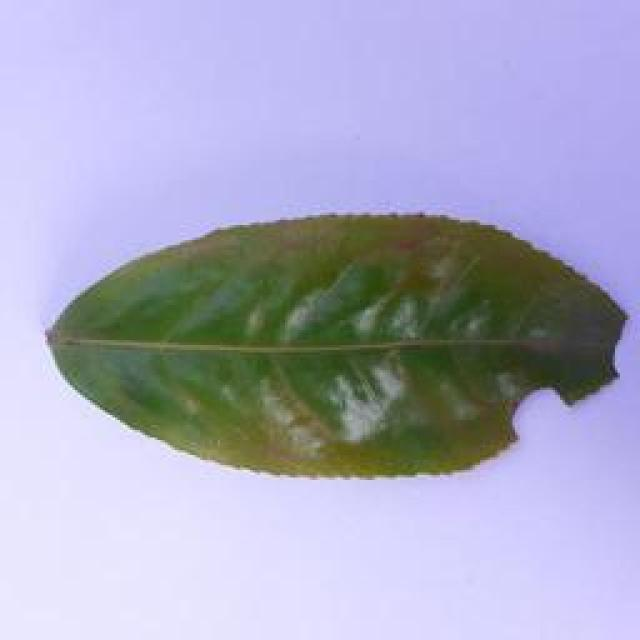Red Leaf Spot: (27, 187, 640, 480)
